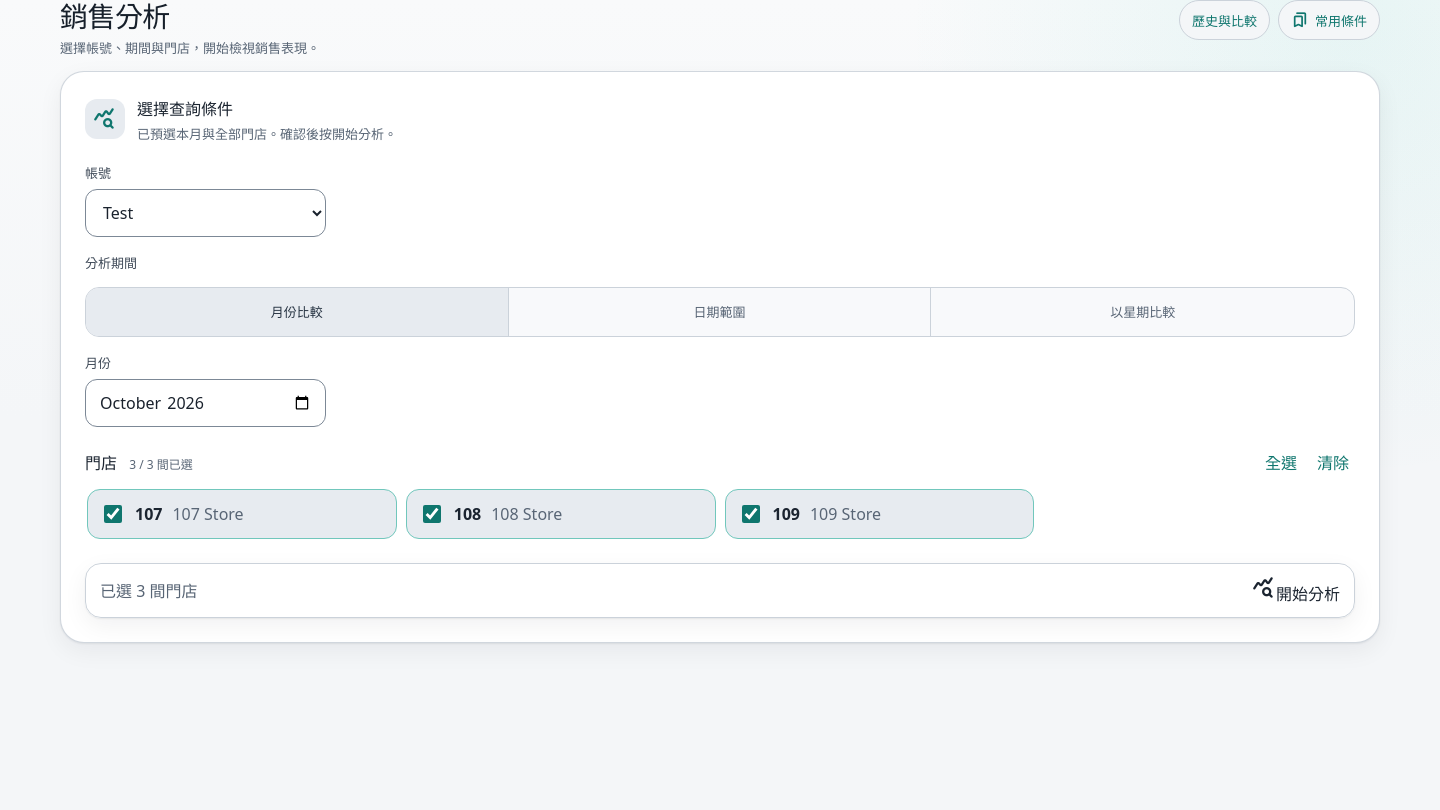
Test case: complete analysis tools › can open the same details from the products table
Expected: the text "107 Store" is shown, [172, 503, 244, 525]
Click the text "開始分析".
click(1296, 590)  # box [1252, 576, 1340, 605]
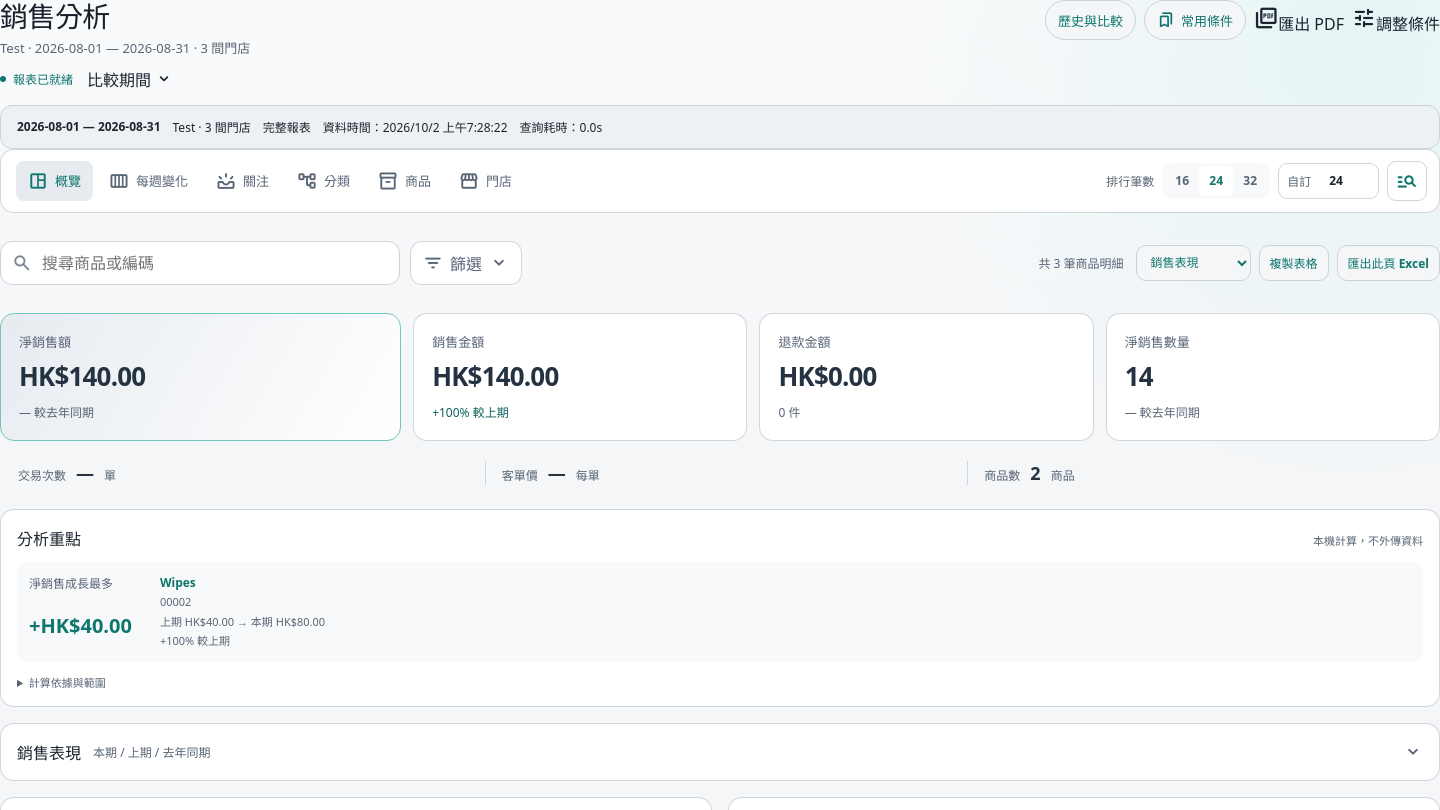
Click the tab "商品".
click(405, 181)  # box [366, 161, 443, 201]
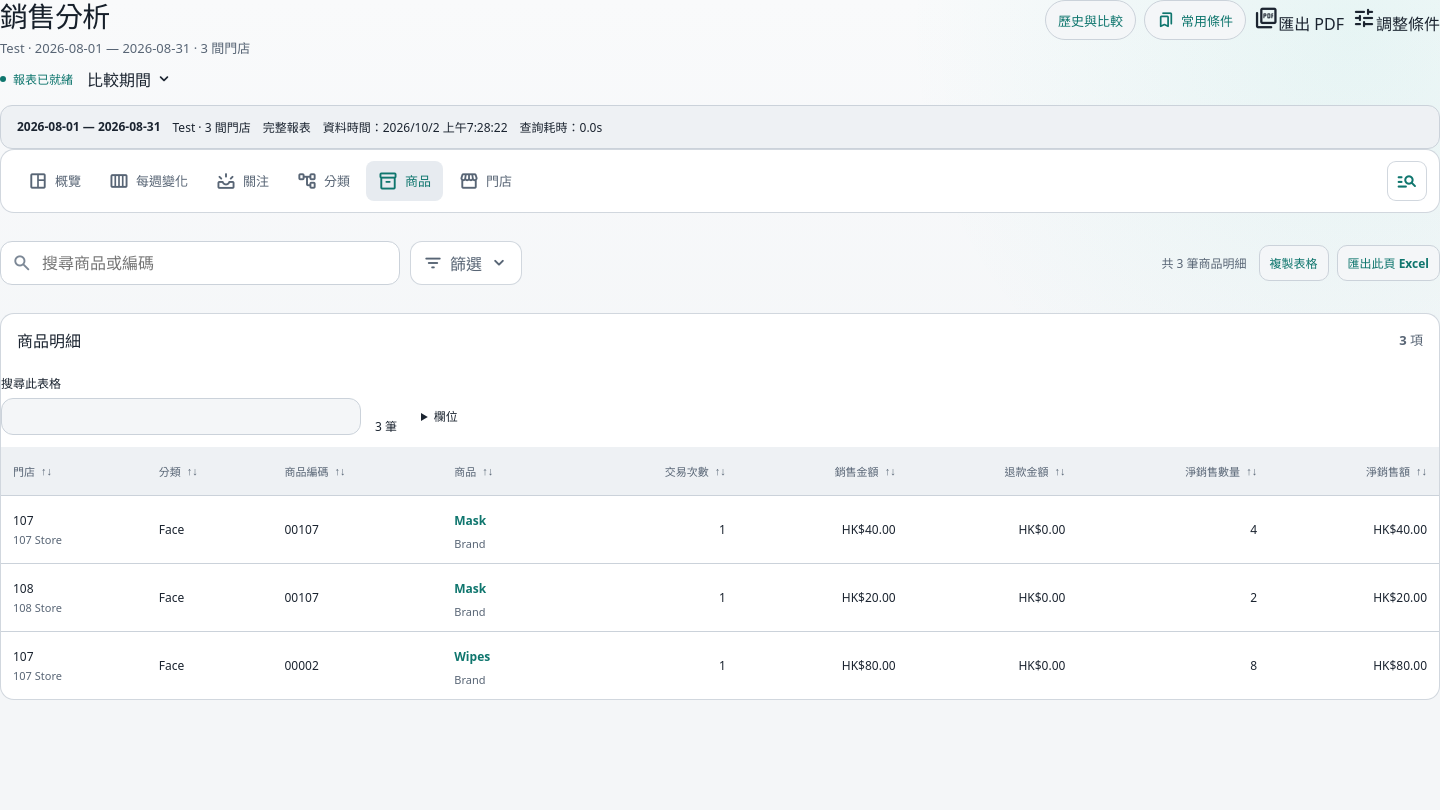
Click the button with aria-label "查看商品詳情：Mask".
click(470, 520)  # box [454, 508, 486, 533]
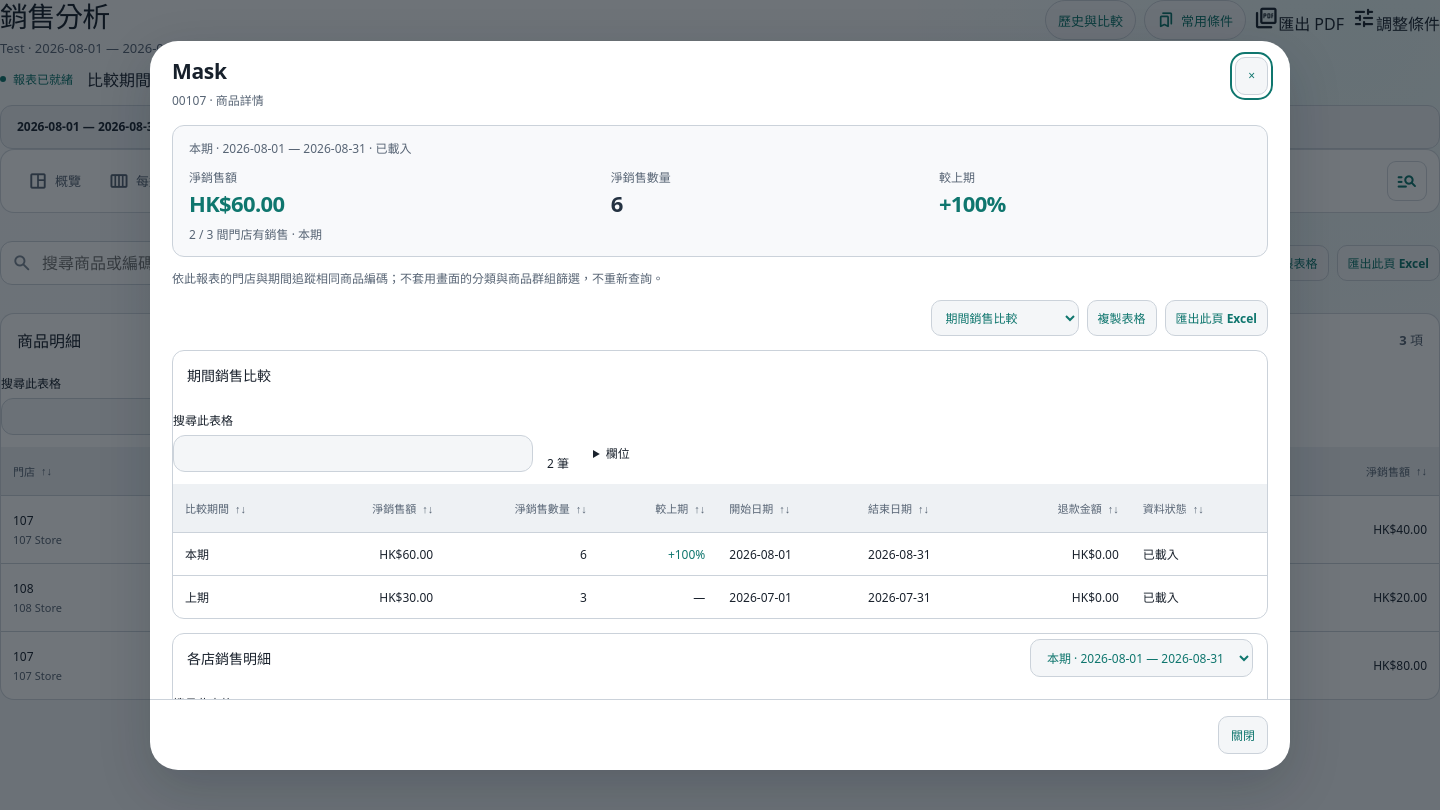
Now the dialog "Mask" is shown
